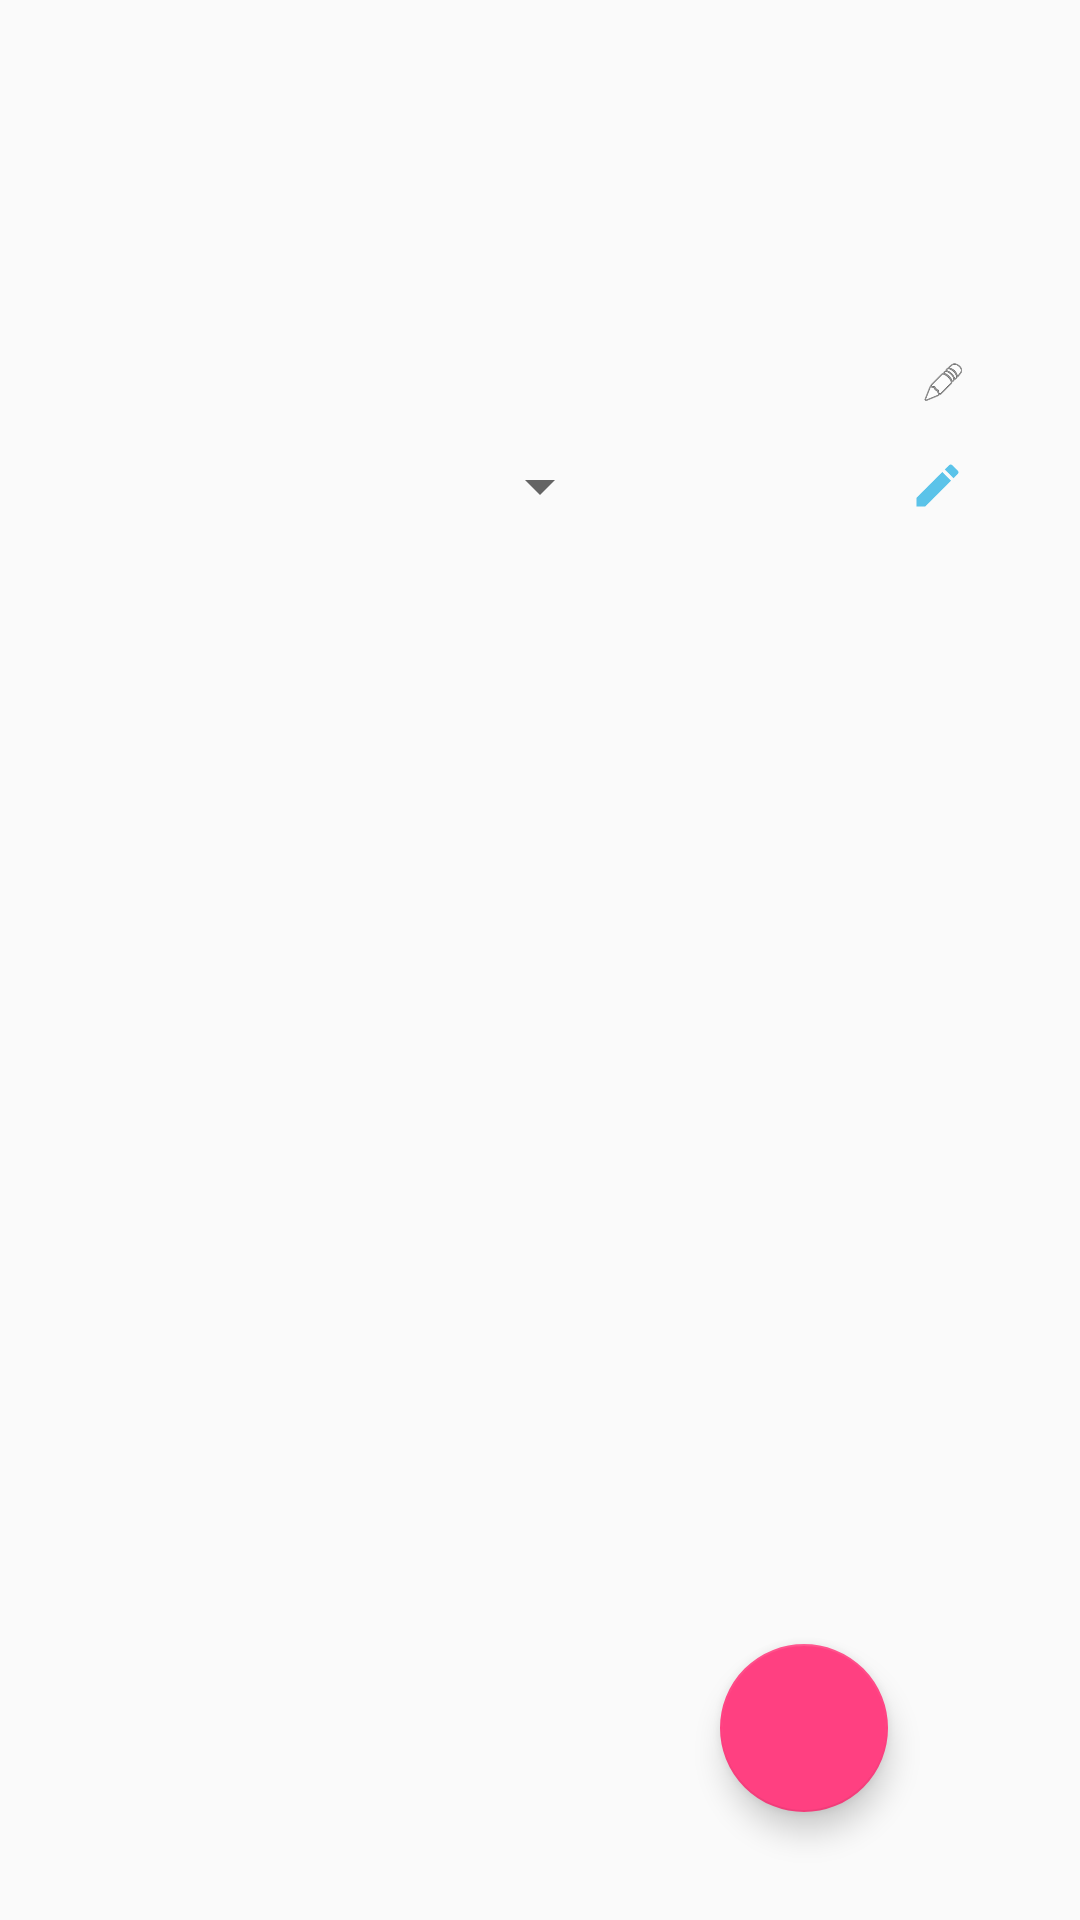

Icon click points for this 1080px×1920px phone screenshot, format [x,y]:
edit: [943,382], [937,485]
